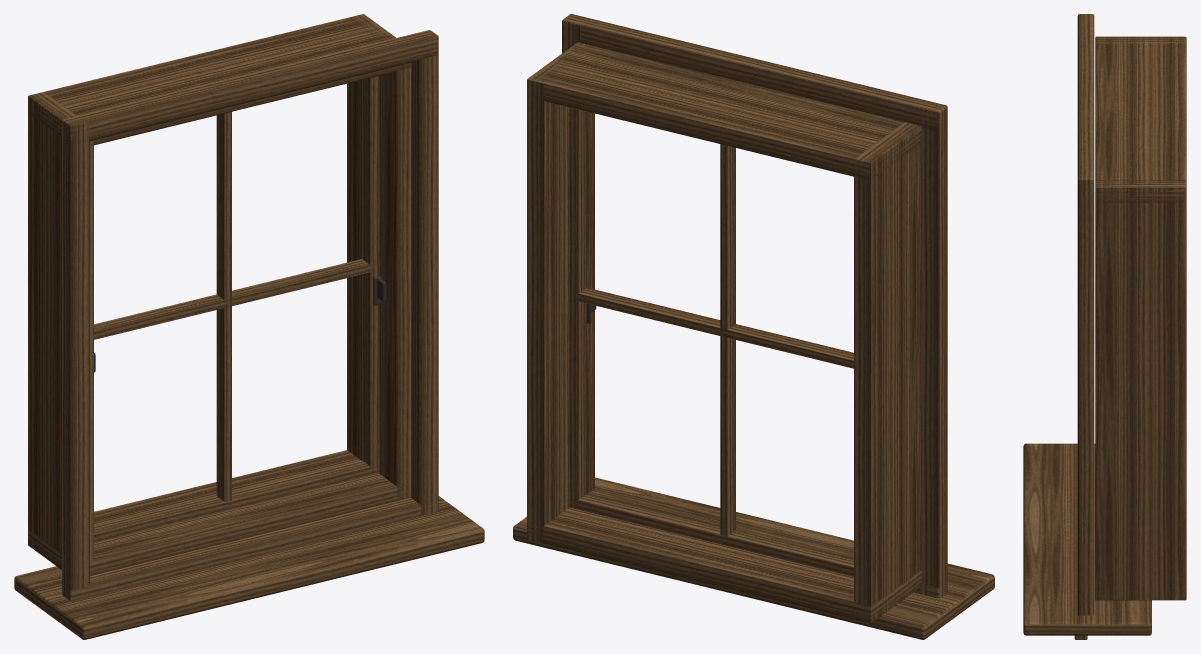
The model's file is cozy-window.glb.
The picture shows the model from 3 angles, left to right: view 1: azimuth 30°, elevation 25°; view 2: azimuth 150°, elevation 25°; view 3: azimuth 270°, elevation 25°; orthographic projection. The views are drawn at different scales.
Parts seen in each view (by area): view 1: Cozy window satin oak; view 2: Cozy window satin oak; view 3: Cozy window satin oak.
Part boxes in pixels (x1,y1,x2,y2): Cozy window satin oak: (14,14,484,639); Cozy window satin oak: (513,14,994,639); Cozy window satin oak: (1023,14,1186,639).
Size of the model in its own units: 0.7357 by 0.8814 by 0.2807.
Materials: 2 (1 with a texture image).
